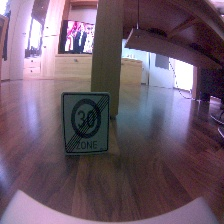dreisiger_zone_ende: (59, 92, 110, 156)
